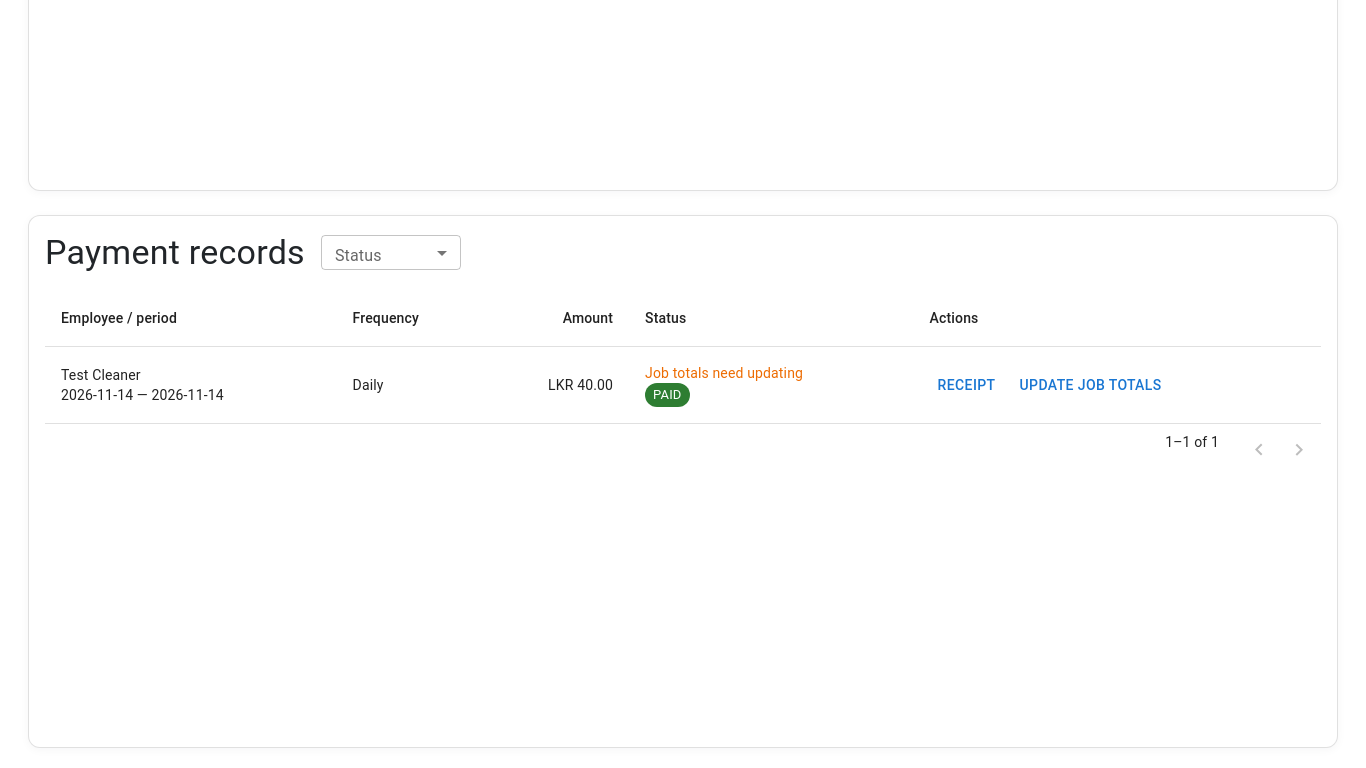
Test case: managers can retry job-total updates from paid history after closing the payment dialog
This screenshot has width=1366, height=768.
(page scrolled)
Click the button "Update job totals" at (1091, 385), box [1012,367,1170,403]
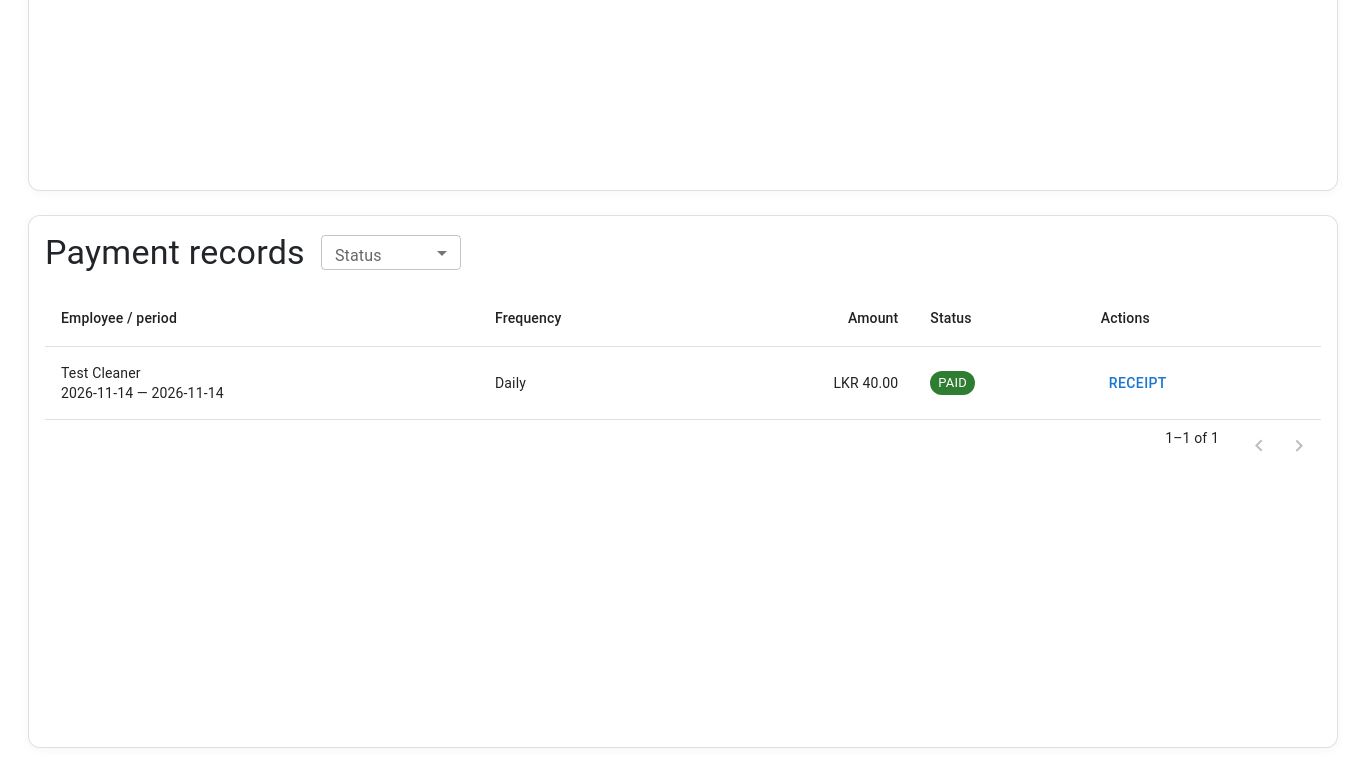
Expected: the button "Receipt" is shown, [1101,365,1175,401]
Now the button "Update job totals" is gone
